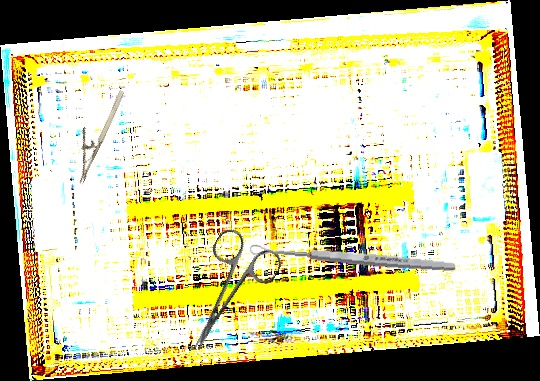Iris Scissors: (164, 224, 286, 365)
Needle Holder: (60, 82, 128, 186)
Surgical Spoon: (248, 242, 457, 274)
